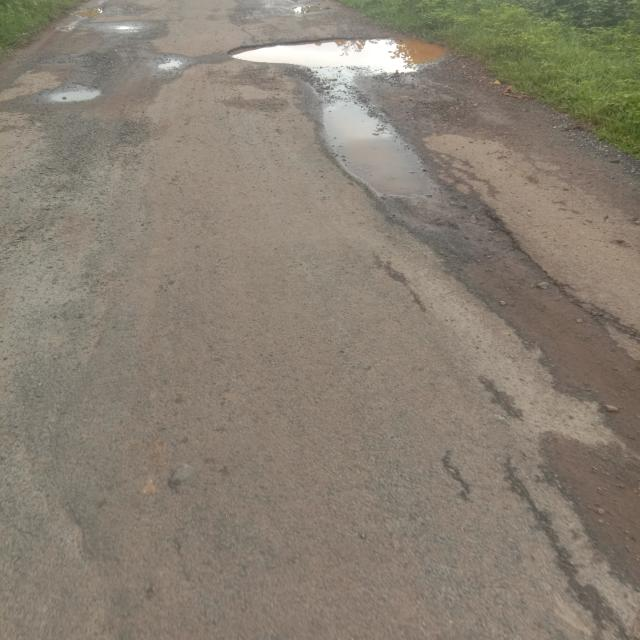potholes: (223, 34, 640, 443), (32, 18, 164, 111)
